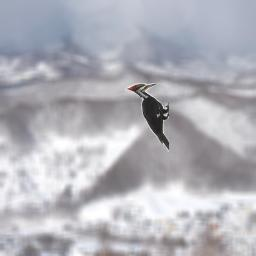Woodpecker: (125, 83, 169, 152)
